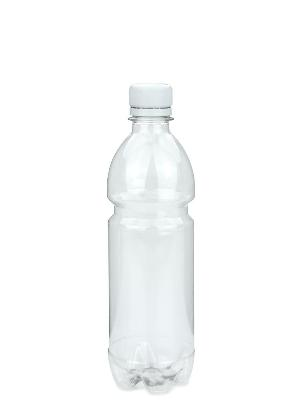Plastic Bottle: (100, 76, 204, 400)
